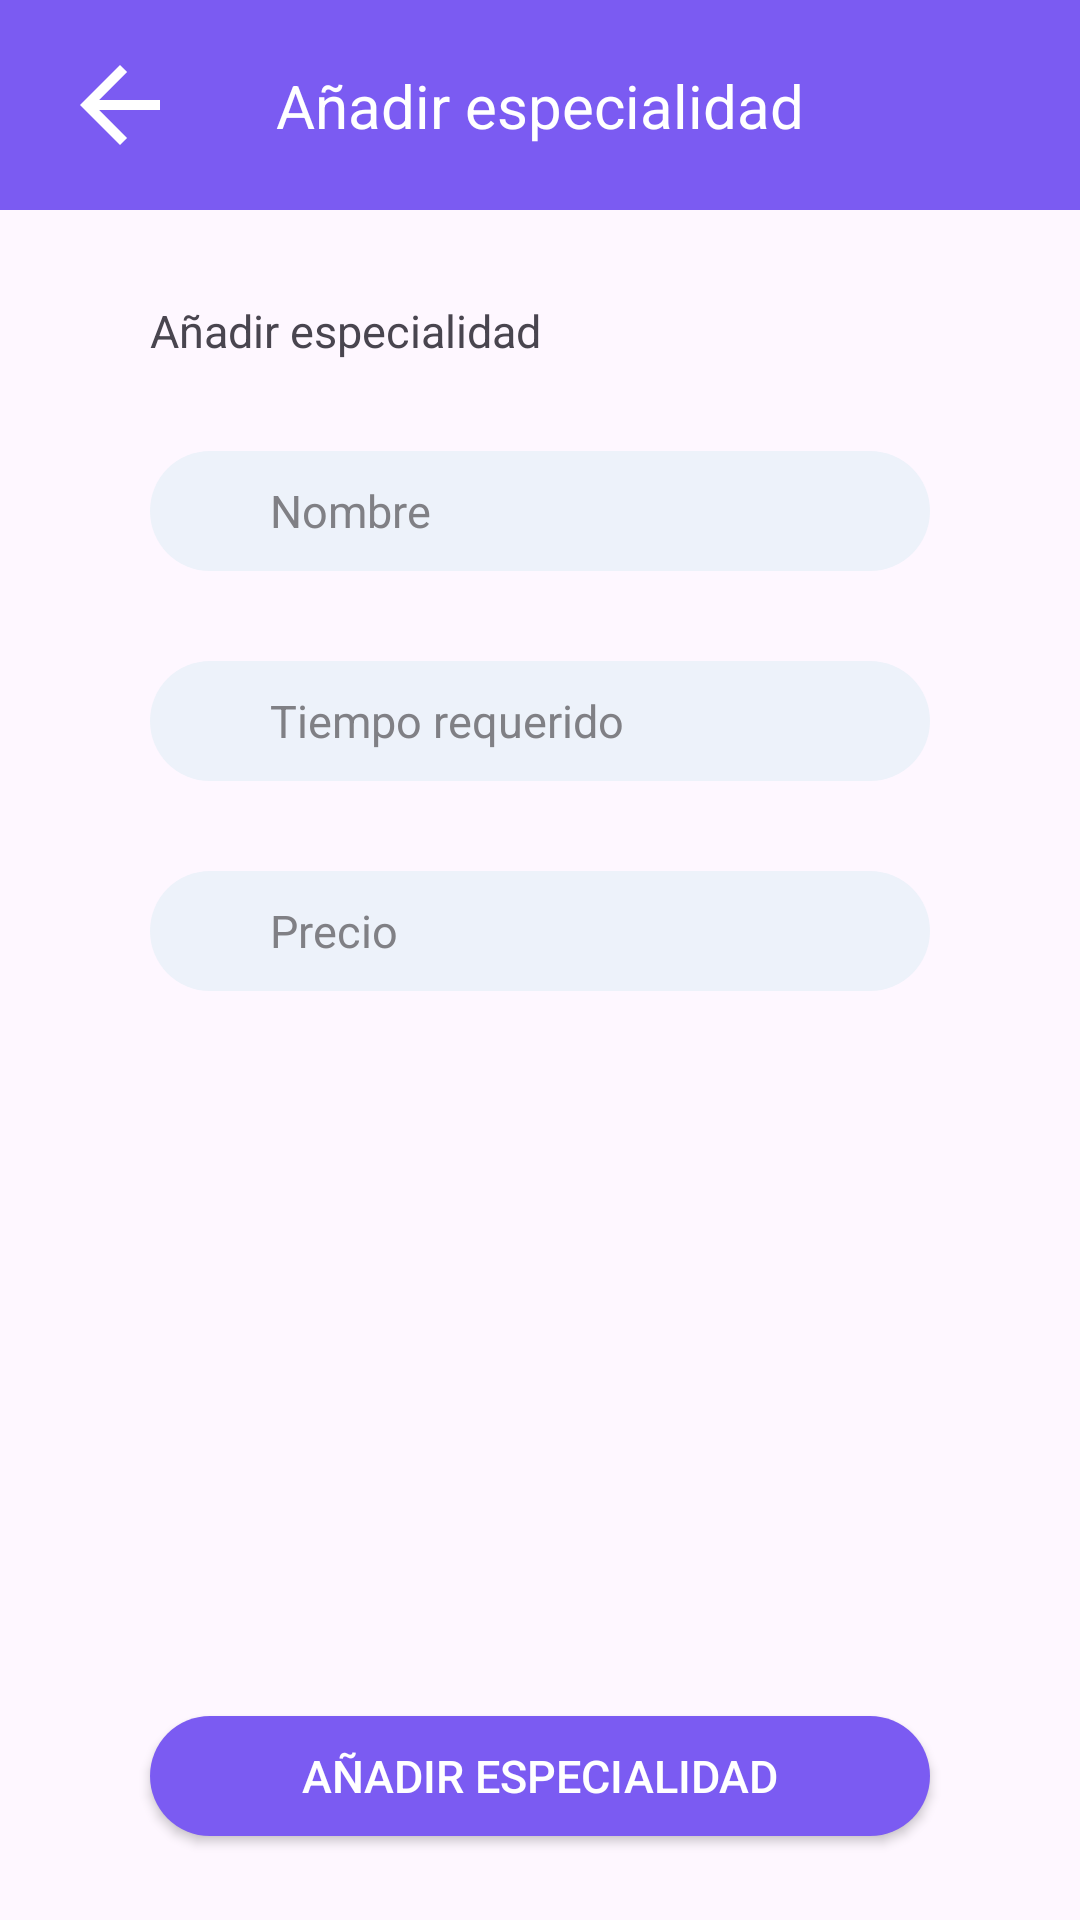

Named icons in this screenshot (1080px×1920px) and their centers, (x,y):
back arrow: (120,105)
